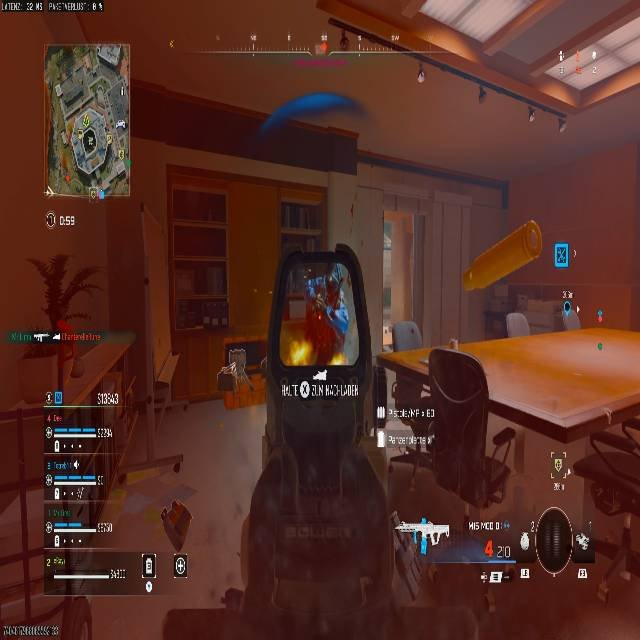player: (300, 298, 344, 367)
